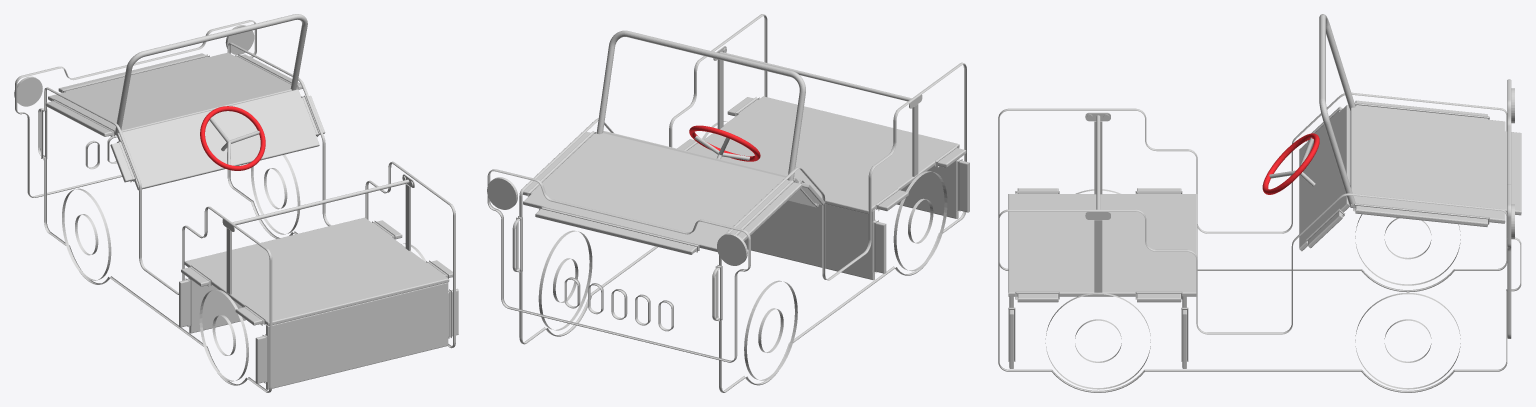
The picture shows the model from 3 angles, left to right: view 1: azimuth 30°, elevation 25°; view 2: azimuth 150°, elevation 25°; view 3: azimuth 270°, elevation 25°; orthographic projection. The views are drawn at different scales.
Parts seen in each view (by area): view 1: D_19_3; view 2: D_19_3; view 3: D_19_3.
Boxes of the visible parts, bbox=[...] form: D_19_3: bbox=[14, 14, 458, 392]; D_19_3: bbox=[487, 14, 969, 392]; D_19_3: bbox=[998, 14, 1521, 392].
Size of the model in its own units: 134 by 135 by 224.
